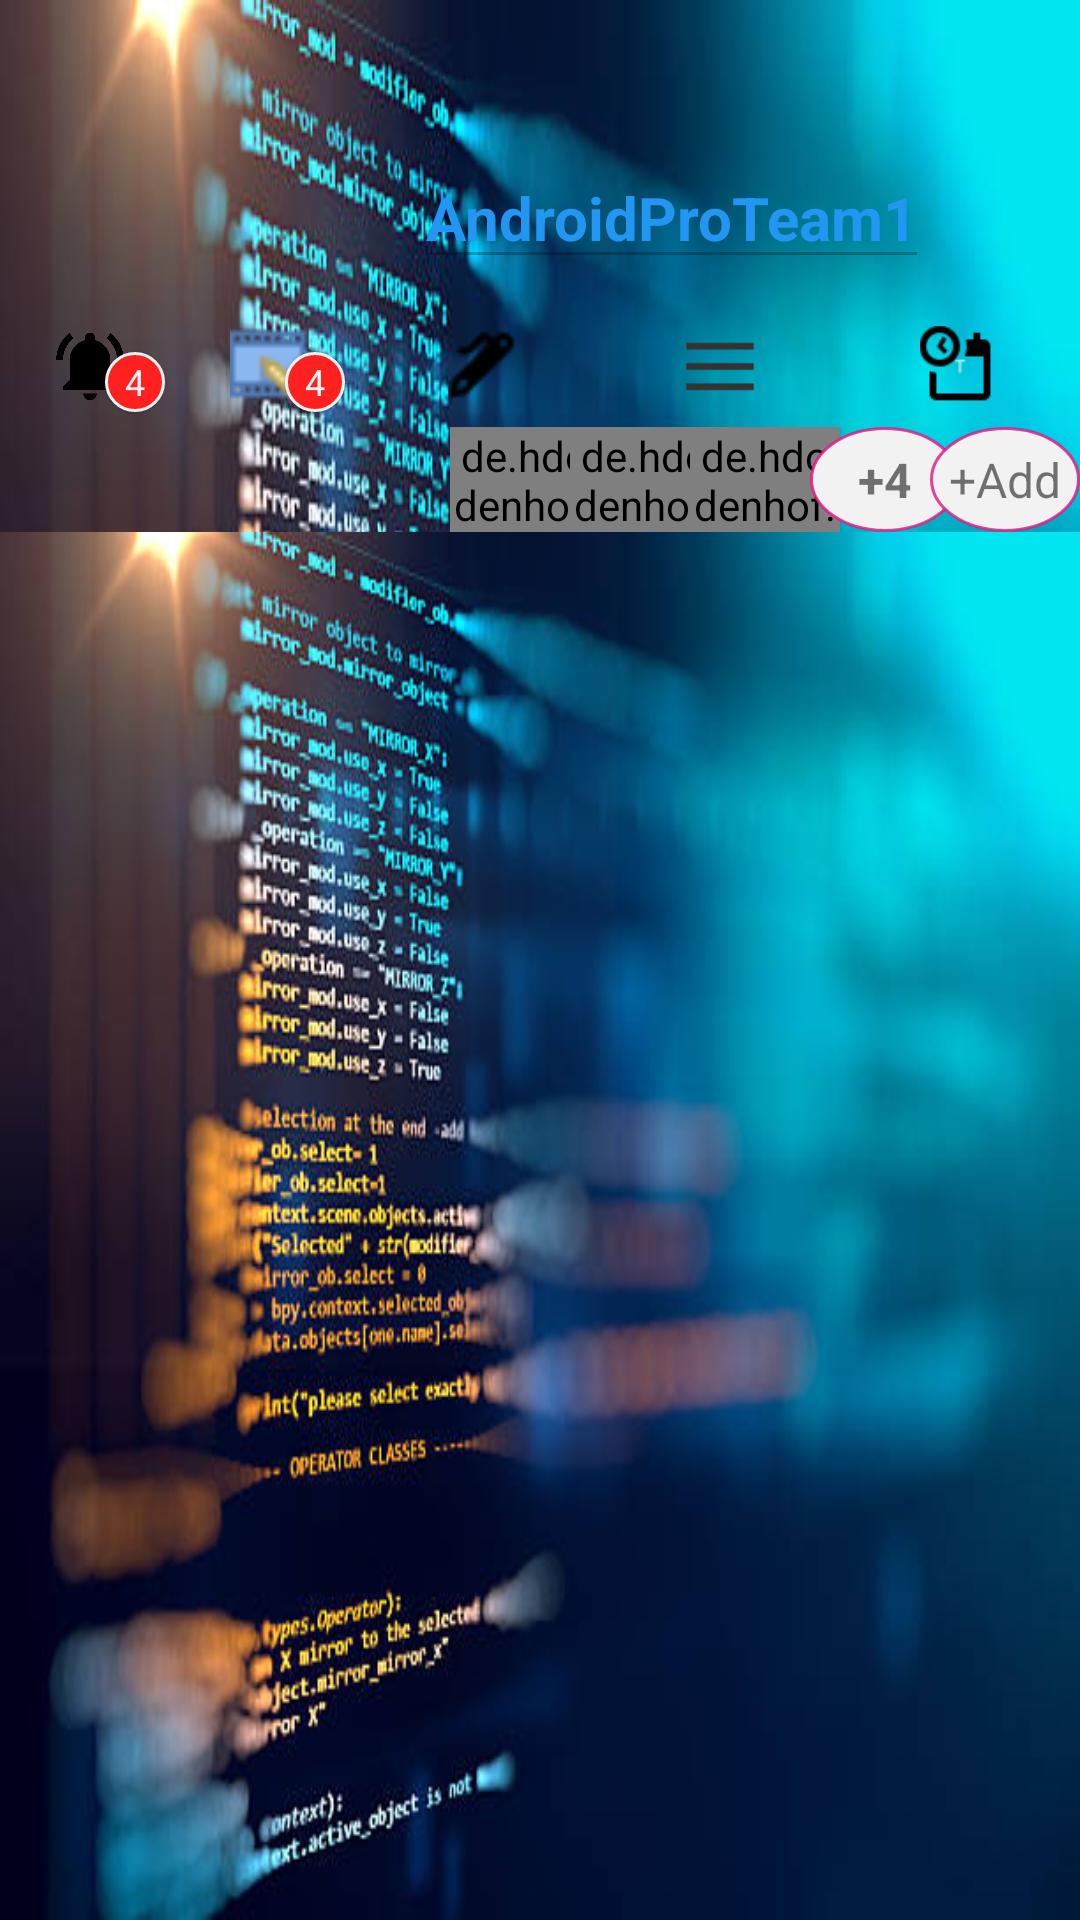

Icons on this 1080px×1920px Android screen, each with the point to tap as (x=x, y=y):
calendar: (x=960, y=366)
notification: (x=103, y=361)
